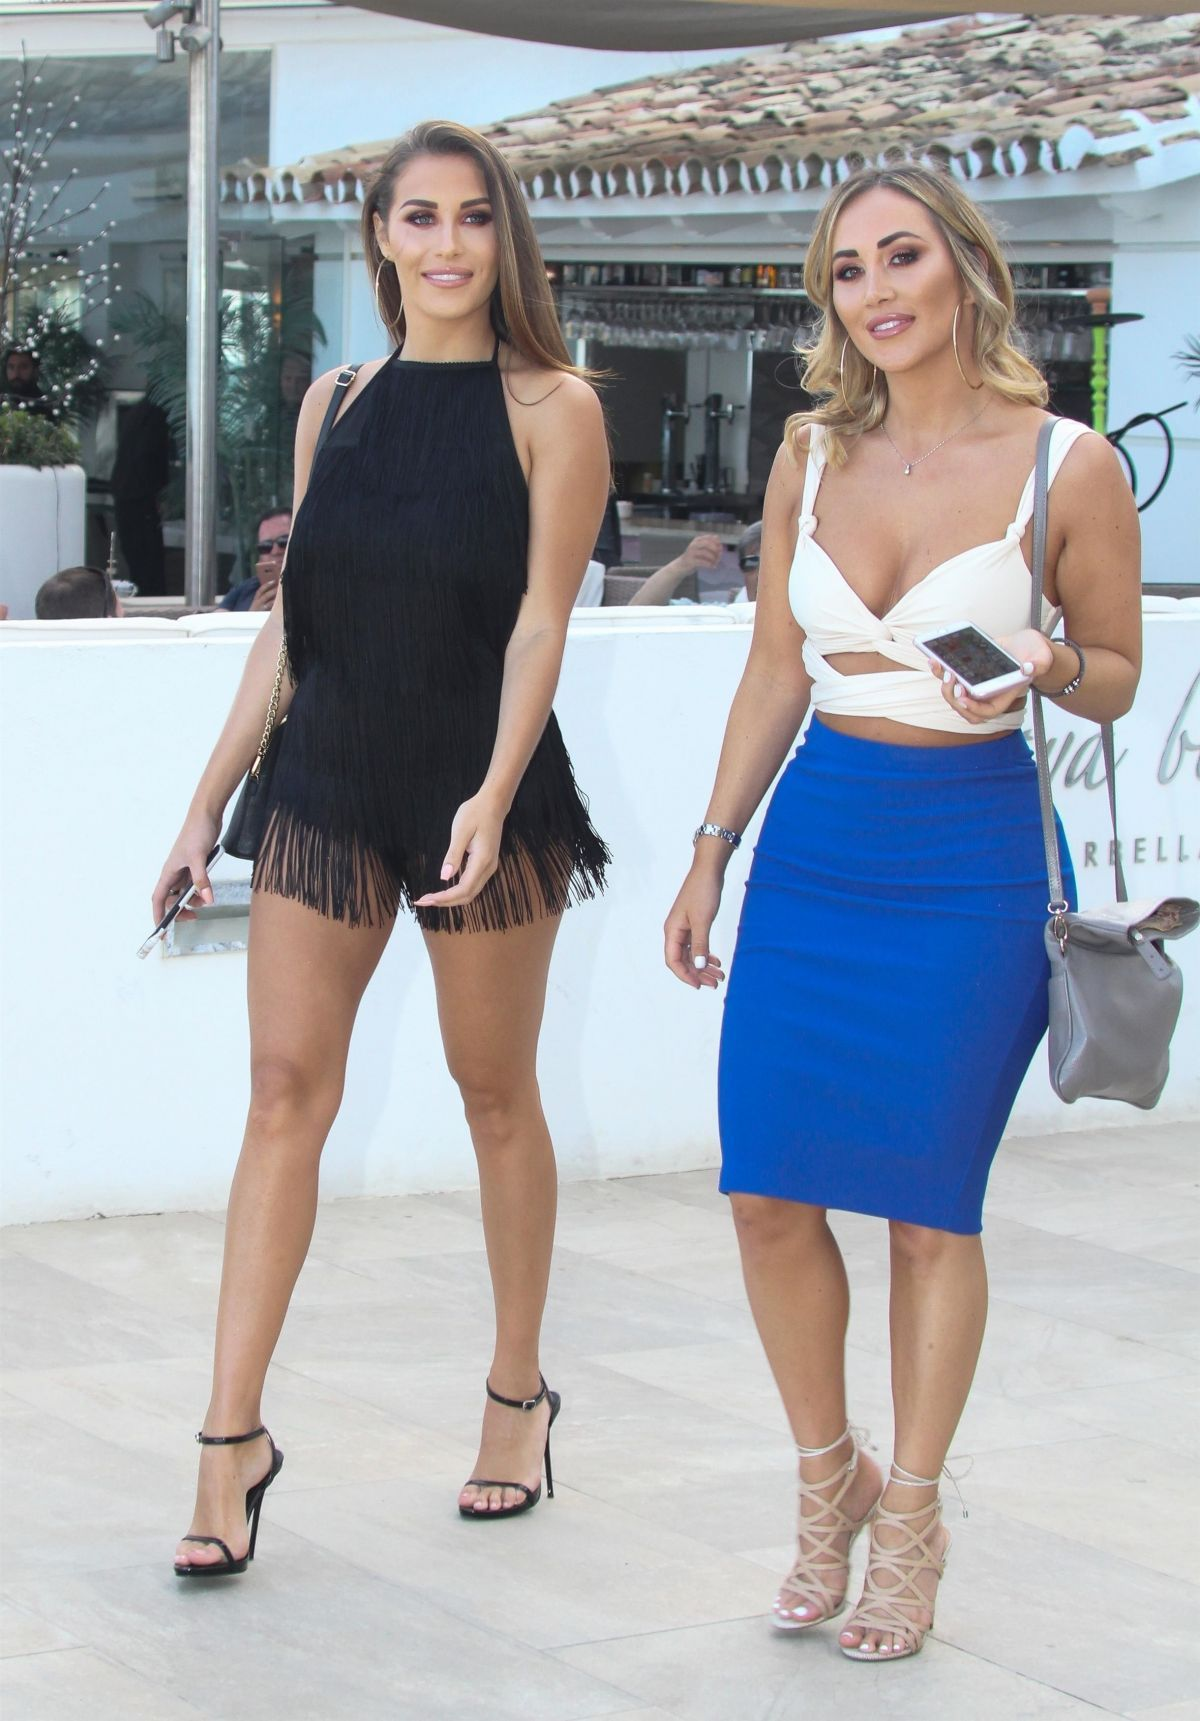Person: (93, 101, 648, 1590), (654, 151, 1173, 1654)
